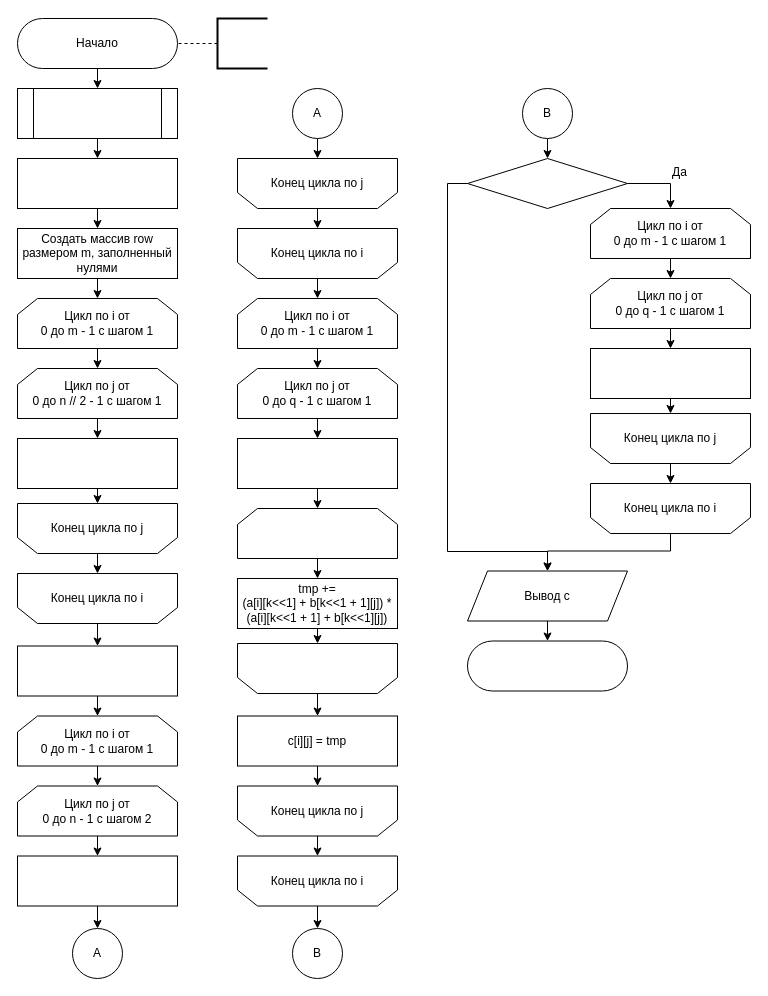
The diagram is 768 pixels wide and 996 high, and some of its shapes have lost their labels. The centre of each missing label's shape, as x and y in pixels:
c[i][j] += a[i][n - 1] * b[n - 1][j]: pixel 670 373
col[i] += b[j << 1][i] * b[j << 1 + 1][i]: pixel 97 880
n % 2 = 1?: pixel 547 183
row[i] += a[i][j << 1] * a[i][j << 1 + 1]: pixel 97 463
tmp = -row[i] - col[j]: pixel 317 463
vinograd_mul_opt(a, b) // a, b - перемножаемые матрицы: pixel 242 43
Конец: pixel 547 665
Конец цикла по k: pixel 317 668
Получить размеры матриц m, n, q: pixel 97 113
Создать двумерный массив c размером m*q, заполненный нулями: pixel 97 183
Создать массив col размером q, заполненный нулями: pixel 97 670
Цикл по k от 0 до n // 2 - 1 с шагом 1: pixel 317 533
